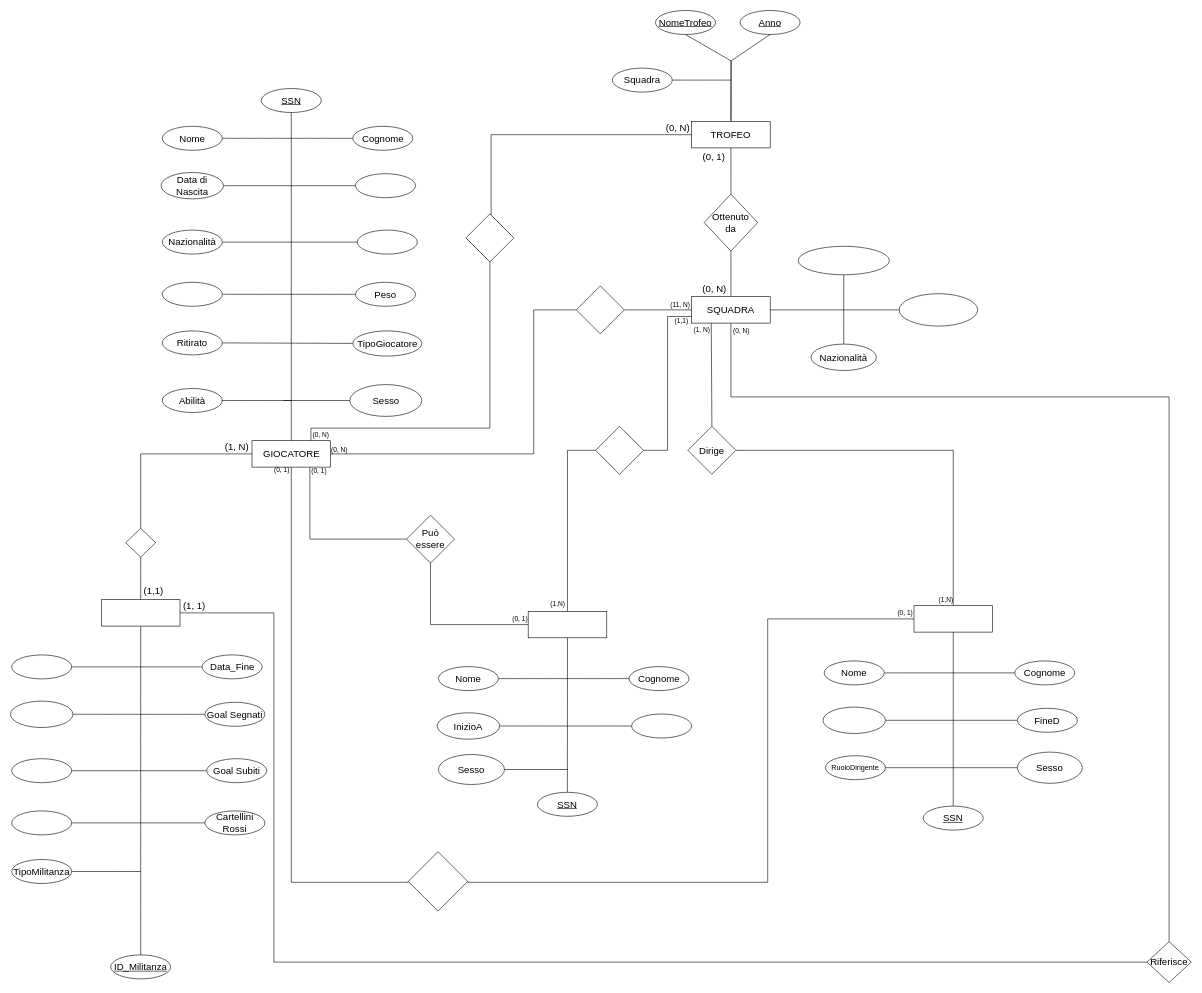
Image size: 1202x993. Some labels were removed from this diagram. Here are the shapes that lost their labels. From the top down, the centre of each, then its label:
At [385,185]: "Piede".
At [387,242]: "Altezza".
At [489,237]: "Vincere".
At [843,260]: "Data_Fondazione".
At [192,294]: "Ruoli".
At [600,309]: "Partecipa".
At [938,309]: "NomeSquadra".
At [619,450]: "Allena".
At [140,542]: "Ha".
At [140,612]: "MILITANZA".
At [567,624]: "ALLENATORE".
At [953,618]: "DIRIGENTE".
At [41,666]: "Data_Inizio".
At [41,714]: "Partite Giocate".
At [661,725]: "FineA".
At [853,720]: "InizioD".
At [41,770]: "Assist".
At [41,822]: "Cartellini Gialli".
At [438,881]: "Può Diventare".
